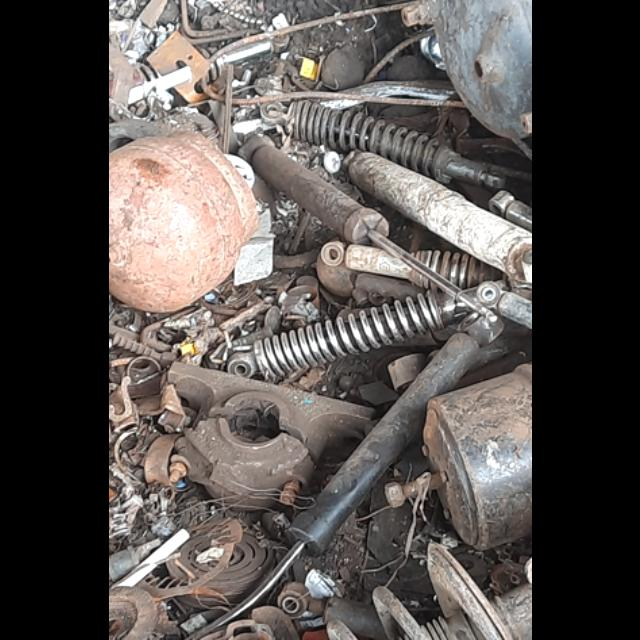Shock Absorber: (224, 276, 504, 381), (261, 96, 506, 188)
